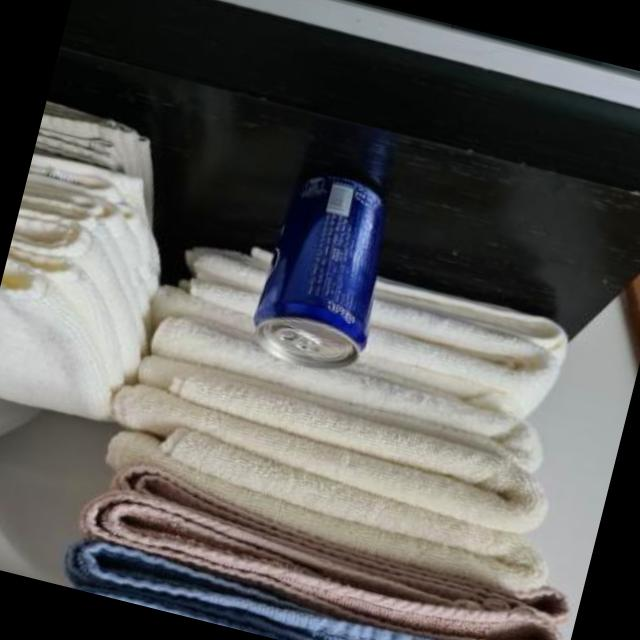metal: (252, 175, 382, 368)
